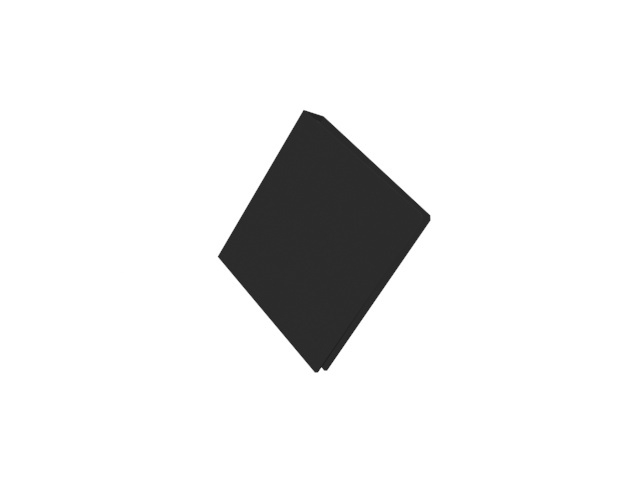ring_binder: (217, 105, 432, 376)
